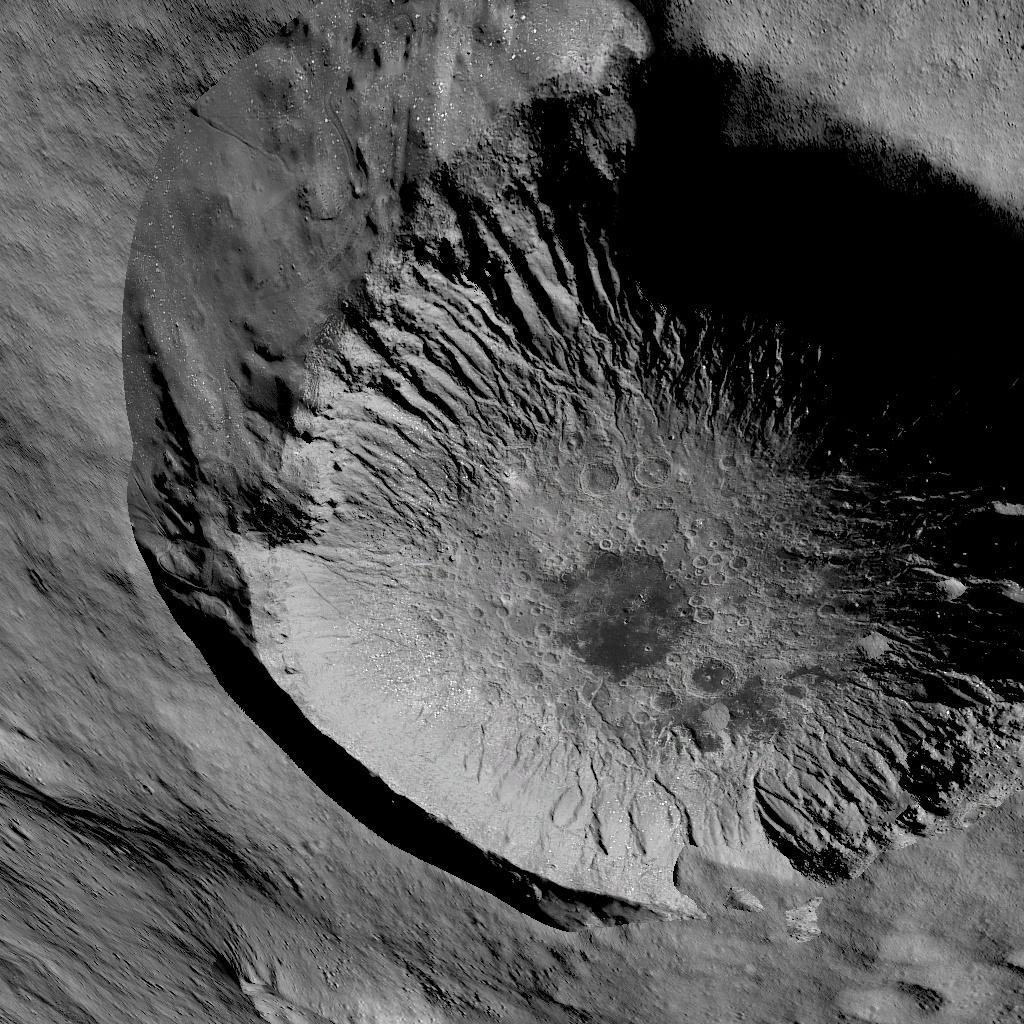Crater: (105, 0, 1024, 965)
